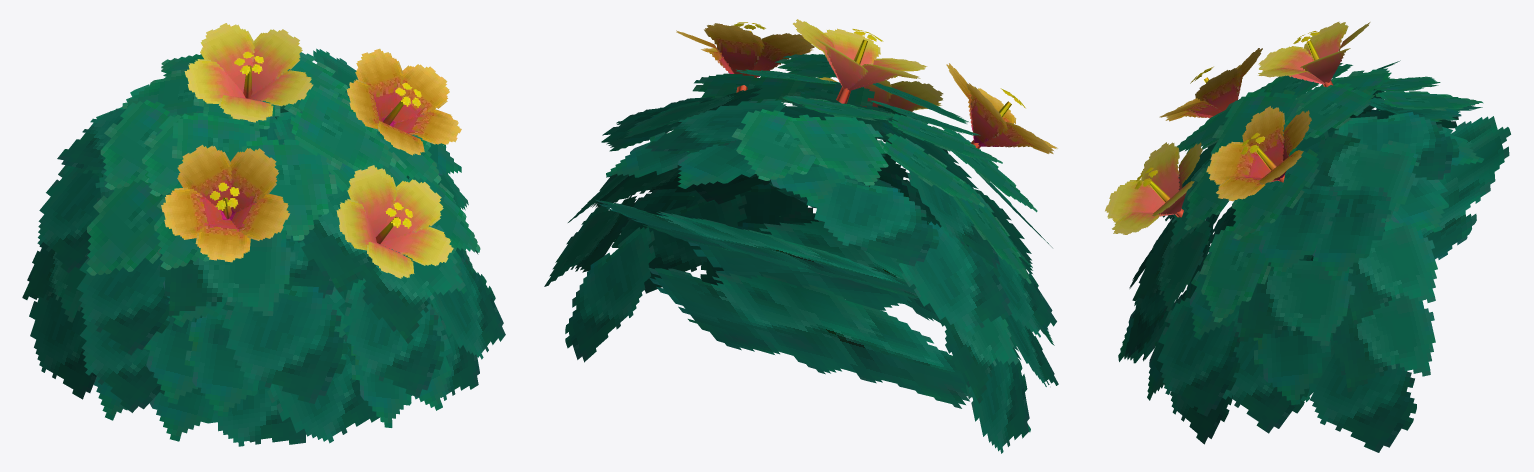
The model's file is yellow-hibiscus.glb.
The picture shows the model from 3 angles, left to right: view 1: azimuth 30°, elevation 25°; view 2: azimuth 150°, elevation 25°; view 3: azimuth 270°, elevation 25°; orthographic projection. The views are drawn at different scales.
Size of the model in its own units: 10.76 by 9.1 by 10.02.
2 materials, 2 textured.
